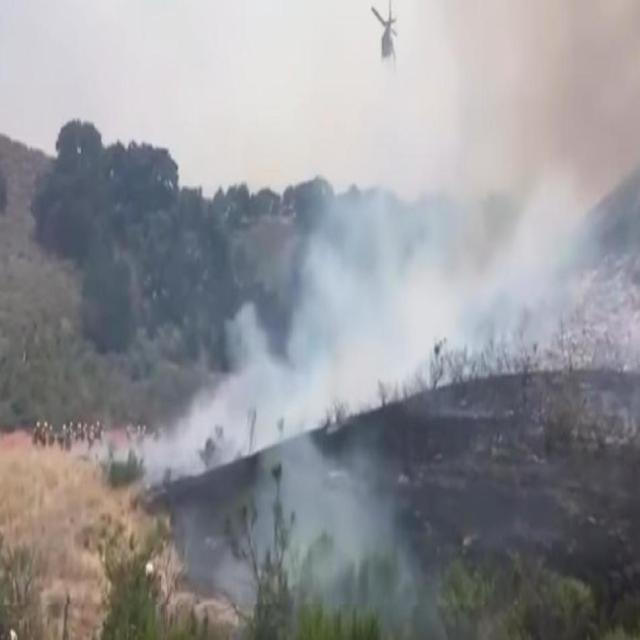Smoke: (432, 0, 639, 457), (120, 190, 448, 446), (193, 428, 417, 633)
